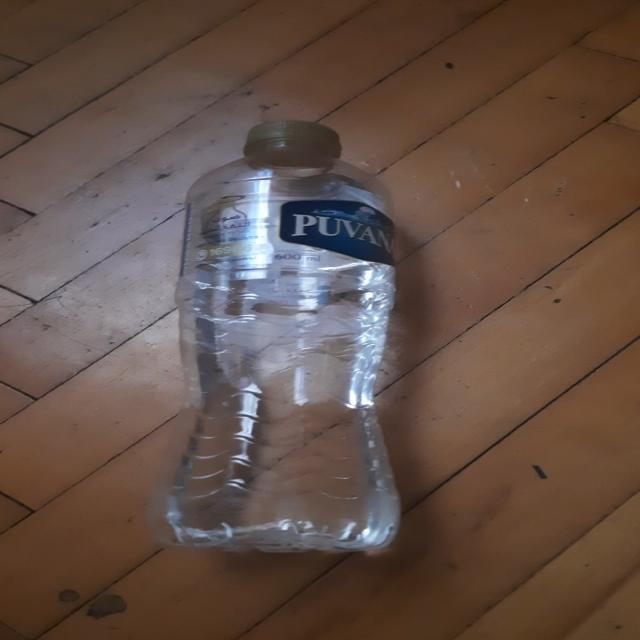Plastic: (159, 121, 403, 557)
